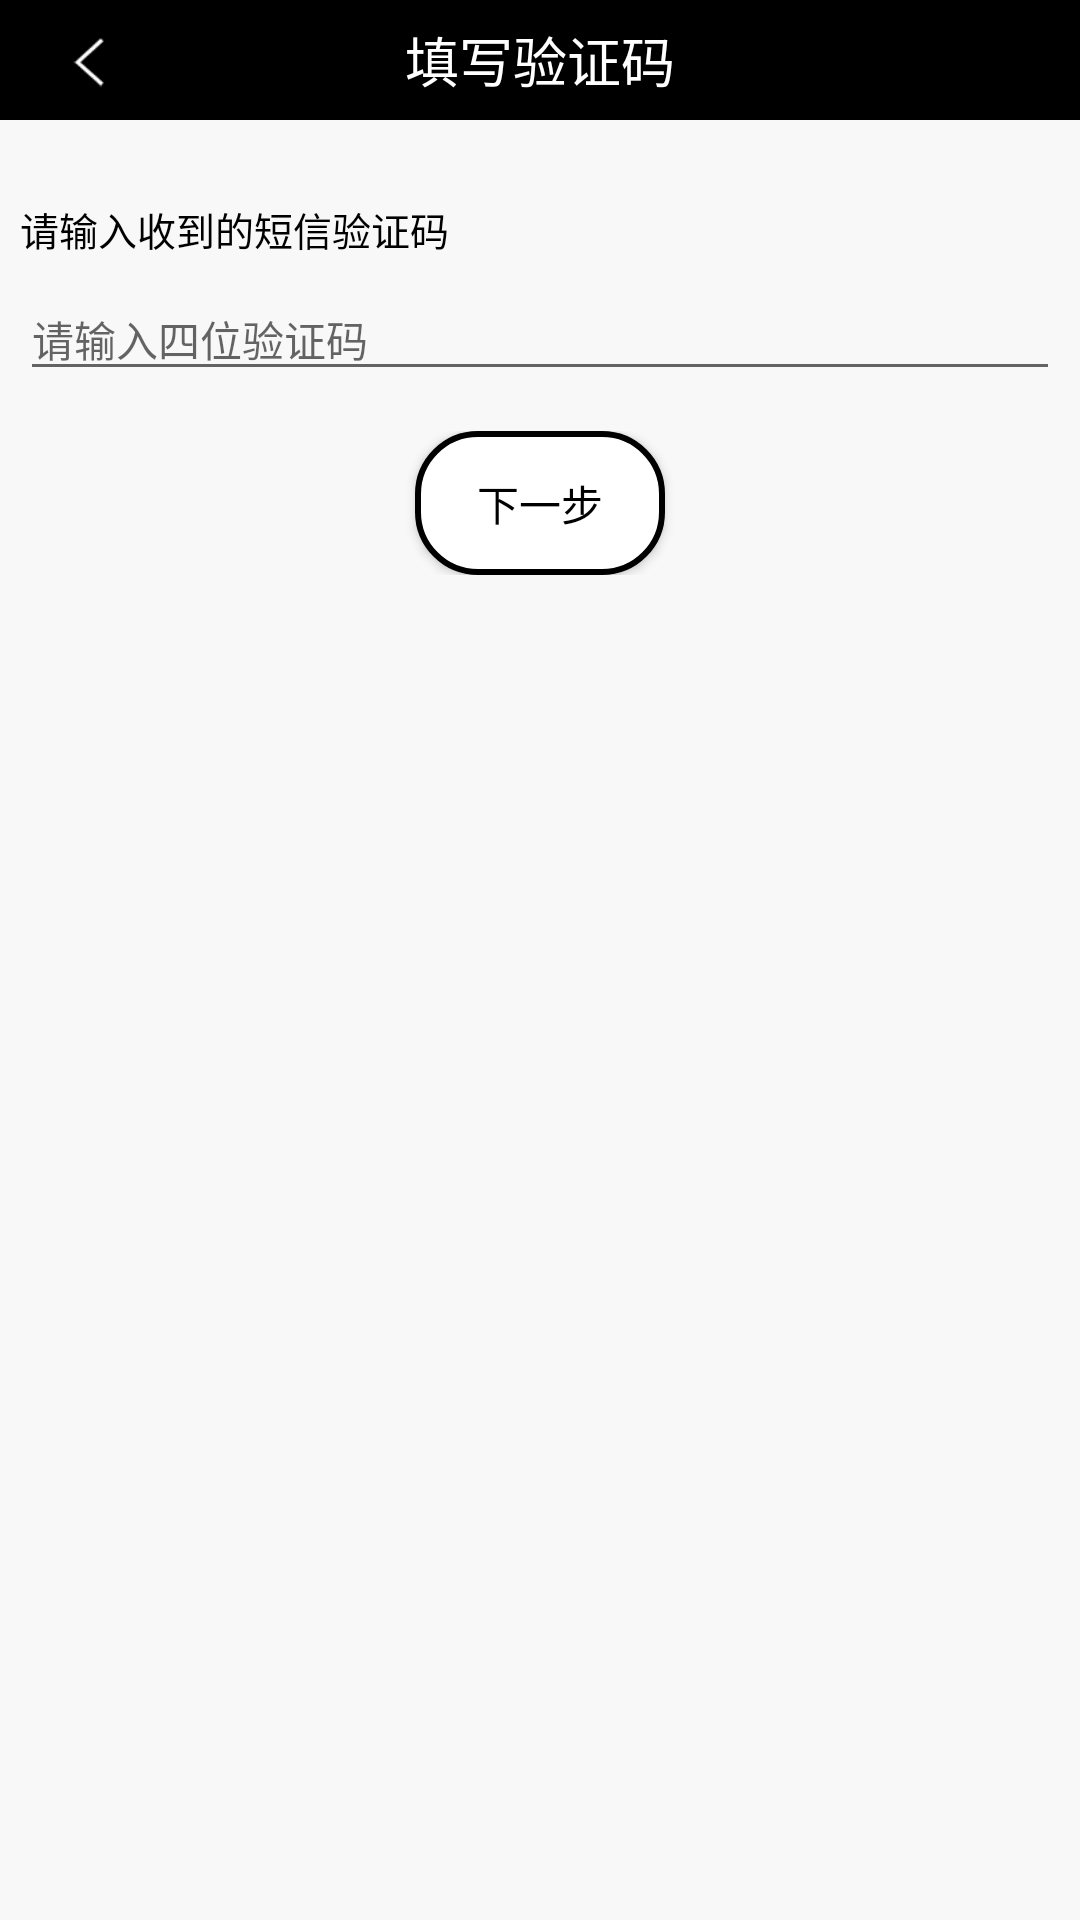

Locate icon controls on the screen. Image size 1080px x 1920px, boxes as [x1=x1, y1=y1, x2=x2, y2=y2].
arrow back: [x1=74, y1=38, x2=104, y2=87]
